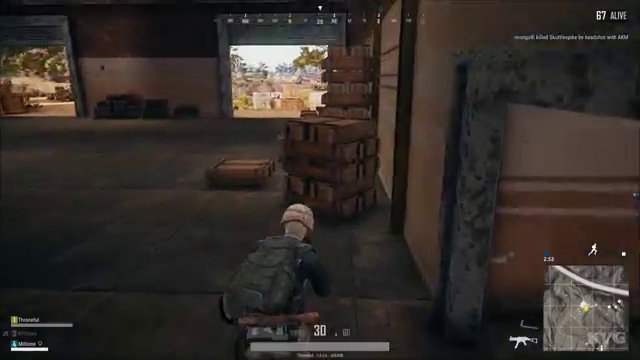Player: (210, 201, 353, 317)
